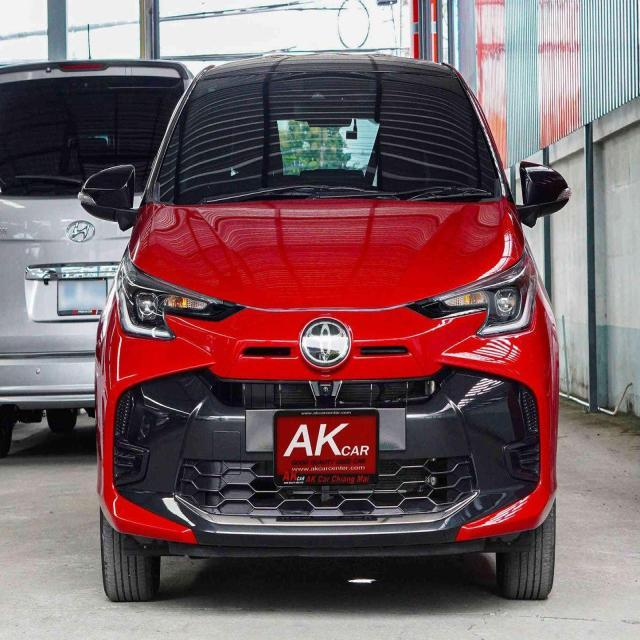Hatchback: (94, 54, 570, 605)
